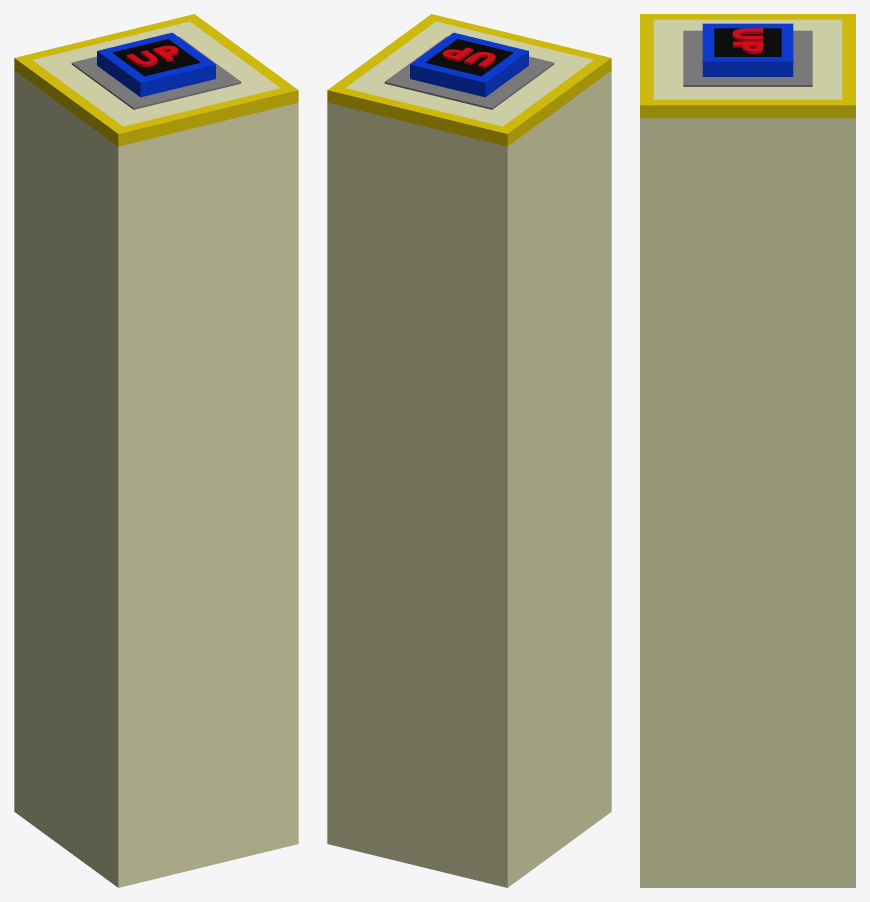
The model's file is yellow_blue_up.fbx.
3 renders of one model, left to right at view 1: azimuth 30°, elevation 25°; view 2: azimuth 150°, elevation 25°; view 3: azimuth 270°, elevation 25°, orthographic. The views are drawn at different scales.
Visible parts, largest first — view 1: yellow_blue_up; view 2: yellow_blue_up; view 3: yellow_blue_up.
Boxes of the visible parts, x1,y1,x2,y2 form: yellow_blue_up: [14, 14, 298, 887]; yellow_blue_up: [327, 14, 611, 887]; yellow_blue_up: [640, 14, 855, 887].
Bounding box in the file's own units: 1 × 4.1 × 1.
